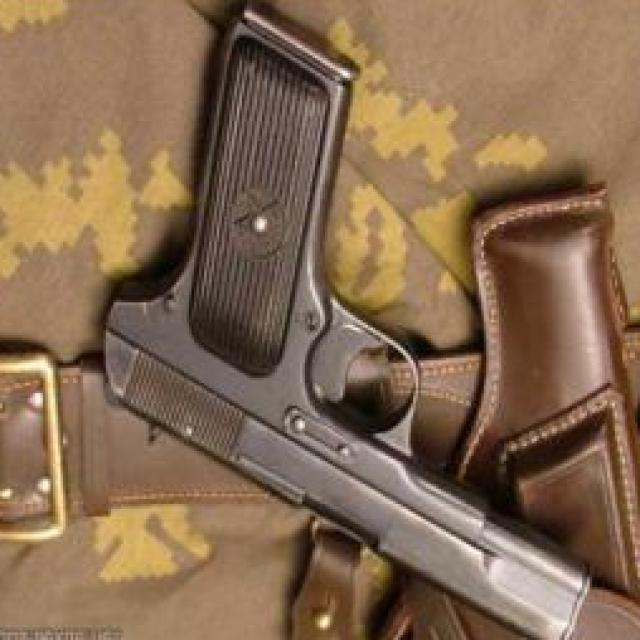pistol: (93, 3, 594, 640)
